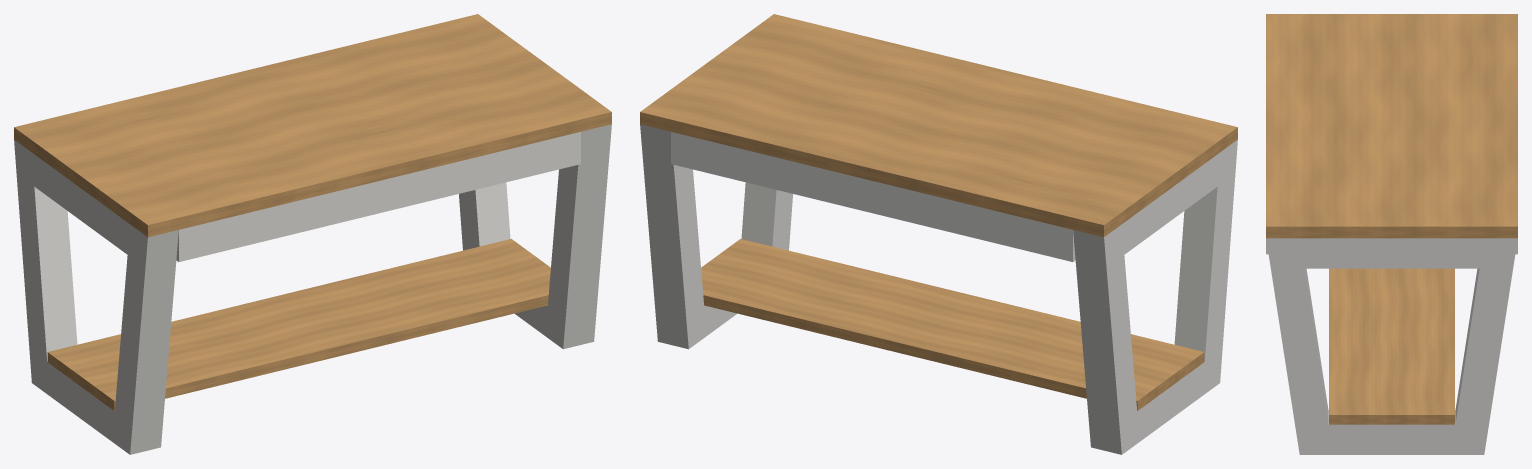
Rendered from mesa-living-nord-estante-miel-blanco-8cm.glb.
3 renders of one model, left to right at view 1: azimuth 30°, elevation 25°; view 2: azimuth 150°, elevation 25°; view 3: azimuth 270°, elevation 25°, orthographic. The views are drawn at different scales.
Visible parts, largest first — view 1: Tapa de madera maciza 120 x 60 x 3 cm, Patas inclinadas con cortes a inglete, Estante inferior de madera de 120 cm (proporción aproximada), Larguero longitudinal superior de hierro 8 x 8 mm, Travesaño superior del trapecio, perfil 8 cm, Travesaño inferior del trapecio, perfil 8 cm (×2); view 2: Tapa de madera maciza 120 x 60 x 3 cm, Patas inclinadas con cortes a inglete, Estante inferior de madera de 120 cm (proporción aproximada), Larguero longitudinal superior de hierro 8 x 8 mm, Travesaño superior del trapecio, perfil 8 cm, Travesaño inferior del trapecio, perfil 8 cm; view 3: Tapa de madera maciza 120 x 60 x 3 cm, Estante inferior de madera de 120 cm (proporción aproximada), Patas inclinadas con cortes a inglete, Travesaño superior del trapecio, perfil 8 cm, Travesaño inferior del trapecio, perfil 8 cm.
Part boxes in pixels (left/top/right/bottom): Tapa de madera maciza 120 x 60 x 3 cm: left=14, top=14, right=611, bottom=237; Patas inclinadas con cortes a inglete: left=14, top=124, right=611, bottom=454; Estante inferior de madera de 120 cm (proporción aproximada): left=47, top=239, right=550, bottom=410; Larguero longitudinal superior de hierro 8 x 8 mm: left=176, top=132, right=580, bottom=261; Travesaño superior del trapecio, perfil 8 cm: left=32, top=153, right=138, bottom=262; Travesaño inferior del trapecio, perfil 8 cm (×2): left=47, top=305, right=554, bottom=446; Tapa de madera maciza 120 x 60 x 3 cm: left=640, top=14, right=1237, bottom=237; Patas inclinadas con cortes a inglete: left=640, top=124, right=1237, bottom=454; Estante inferior de madera de 120 cm (proporción aproximada): left=701, top=239, right=1204, bottom=410; Larguero longitudinal superior de hierro 8 x 8 mm: left=671, top=132, right=1075, bottom=261; Travesaño superior del trapecio, perfil 8 cm: left=1113, top=146, right=1228, bottom=254; Travesaño inferior del trapecio, perfil 8 cm: left=1137, top=362, right=1204, bottom=441; Tapa de madera maciza 120 x 60 x 3 cm: left=1266, top=14, right=1517, bottom=238; Estante inferior de madera de 120 cm (proporción aproximada): left=1329, top=268, right=1454, bottom=424; Patas inclinadas con cortes a inglete: left=1266, top=238, right=1517, bottom=454; Travesaño superior del trapecio, perfil 8 cm: left=1283, top=238, right=1500, bottom=268; Travesaño inferior del trapecio, perfil 8 cm: left=1316, top=410, right=1467, bottom=454.
Bounding box in the file's own units: 1.2 × 0.6 × 0.6.
2 materials, 1 textured.
